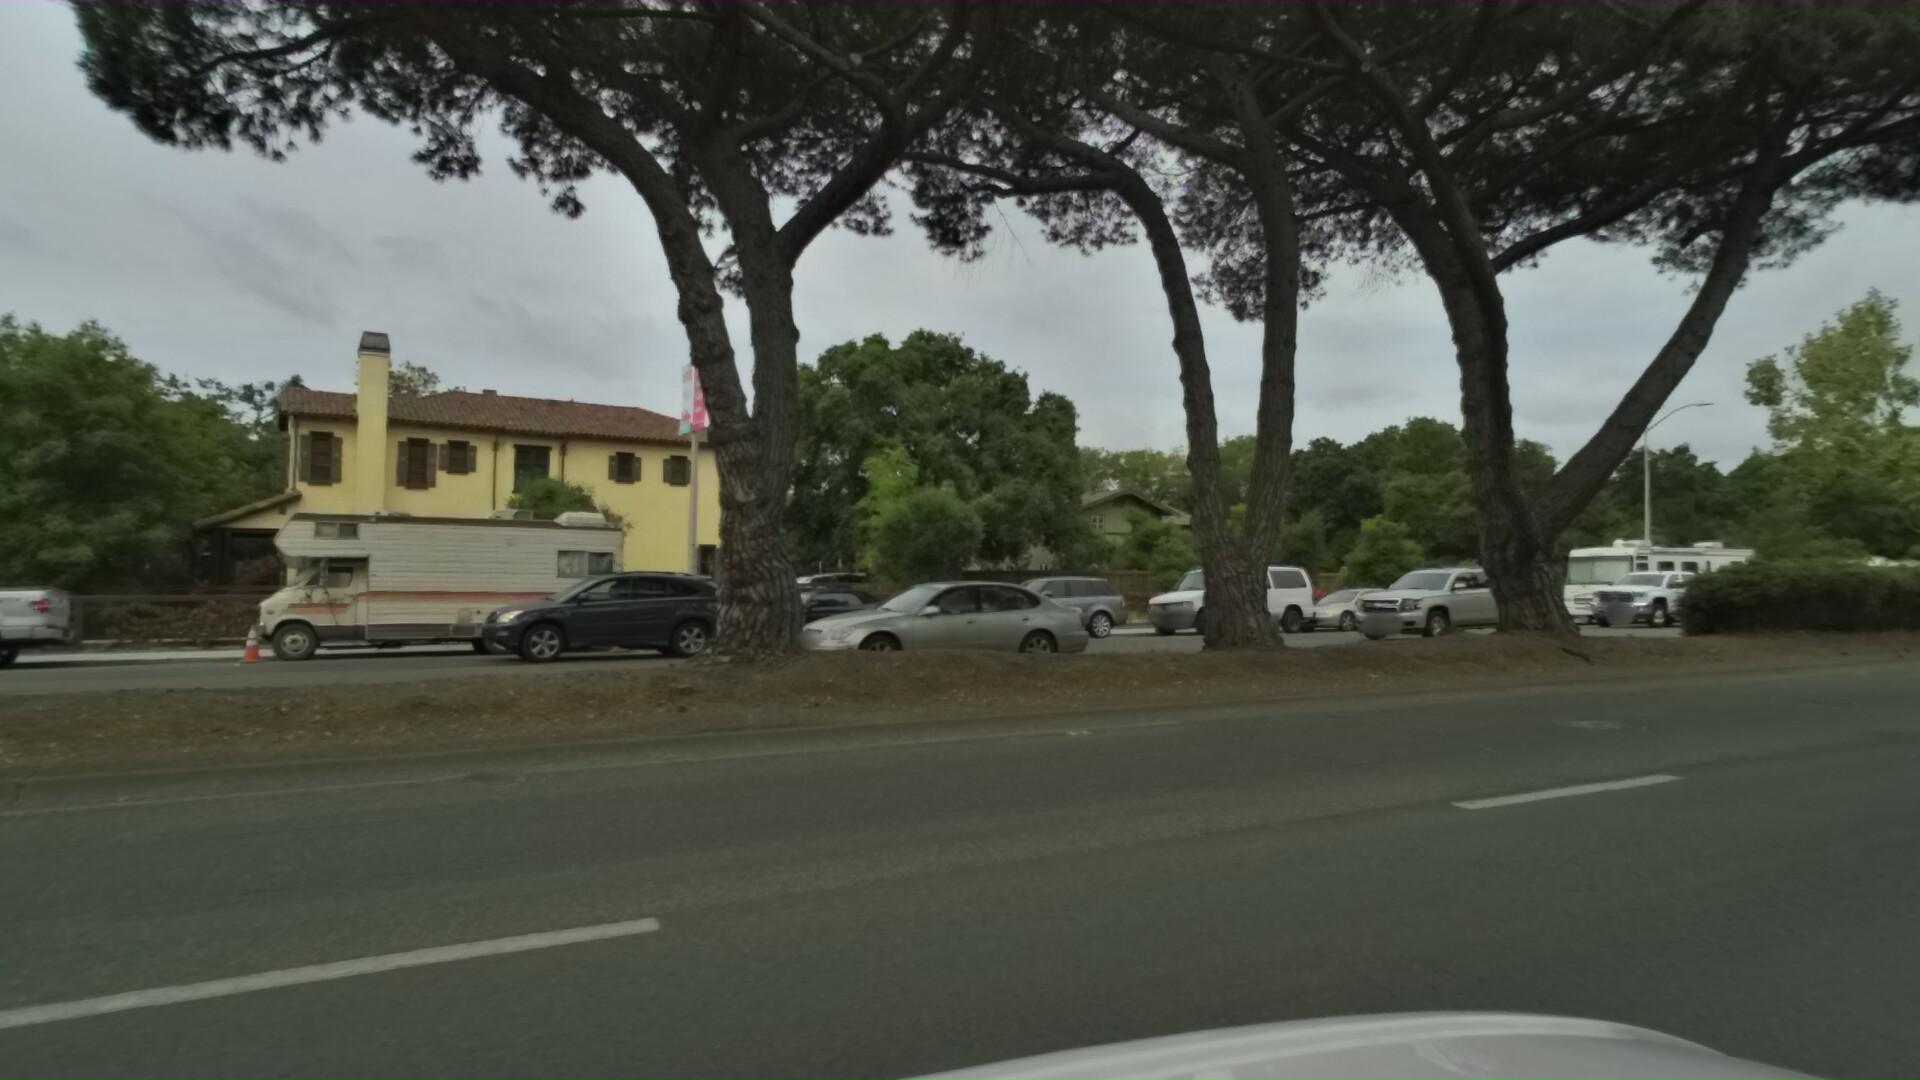car: (695, 578, 1029, 699), (394, 564, 667, 666), (1295, 562, 1505, 646), (1116, 559, 1309, 640), (920, 571, 1116, 646), (684, 585, 891, 655), (1544, 568, 1706, 632), (1398, 576, 1544, 636), (1262, 585, 1403, 636)
other_vehicle: (195, 493, 669, 671), (1528, 525, 1754, 628), (1797, 549, 1920, 615)
